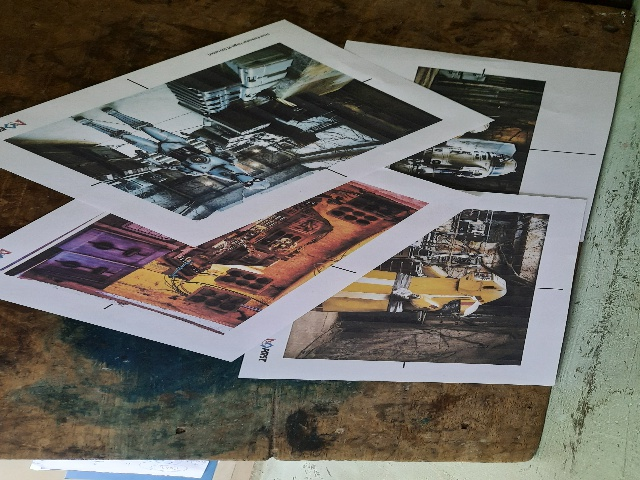fpt1: (2, 40, 429, 173)
fpt2: (393, 50, 565, 199)
rept1: (32, 204, 384, 318)
rpt2: (346, 222, 542, 378)
